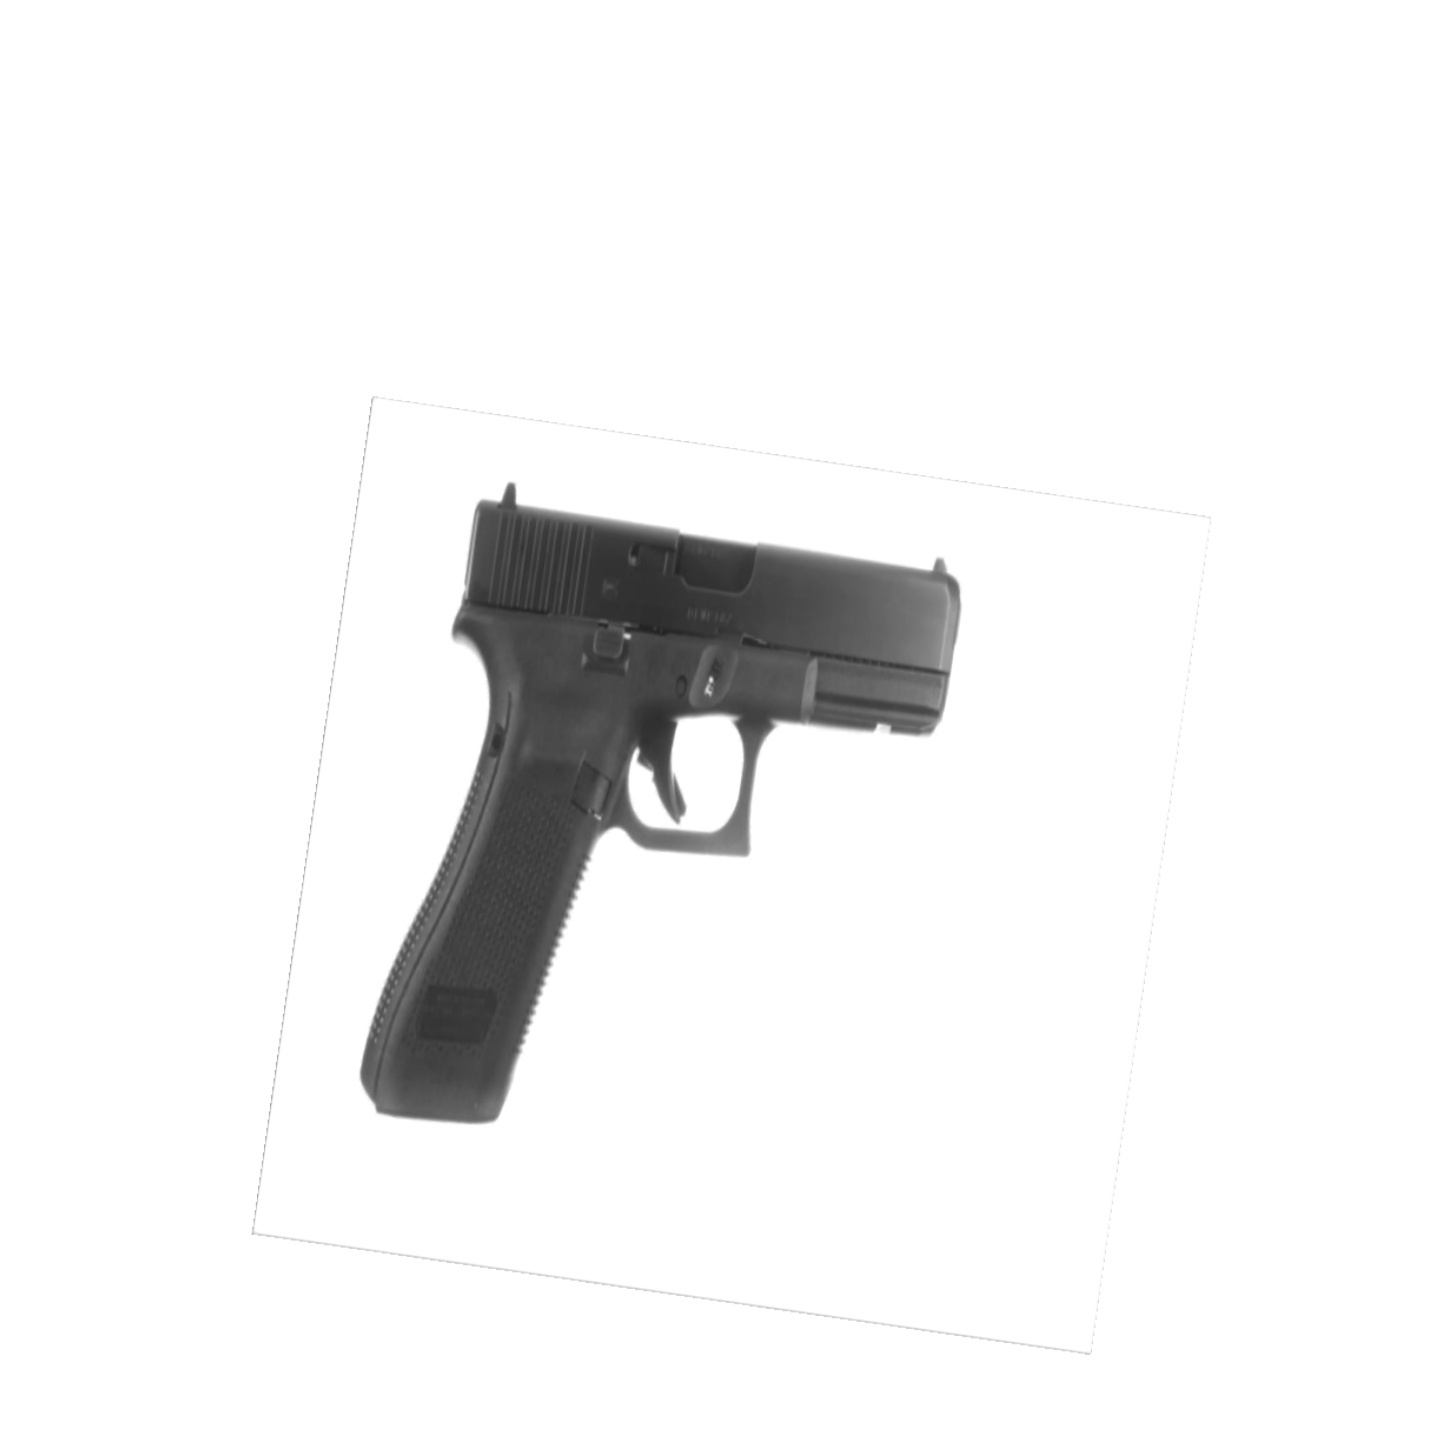gun: (363, 485, 963, 1134)
